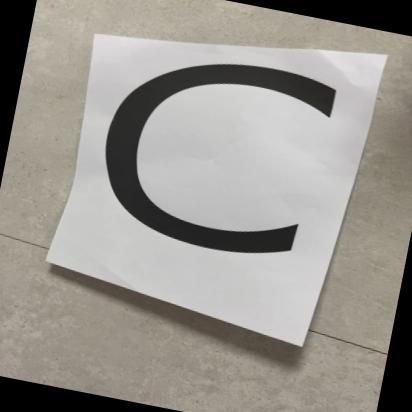seat: (56, 33, 370, 320)
